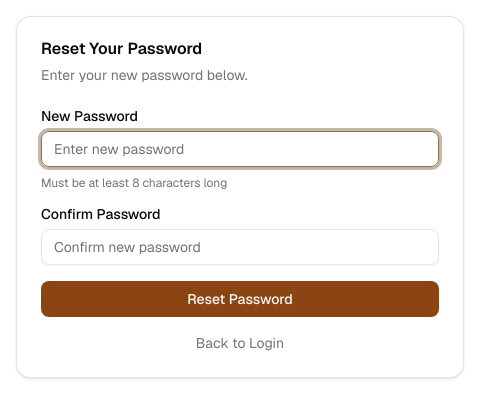
Test: ResetPasswordPage › should disable inputs during submission
Expected: the text "Reset Your Password" is shown, [41, 38, 202, 59]
Type "NewPass123!" into the password field labelled "New Password".
click(240, 149); type("NewPass123!")  # box [41, 131, 439, 167]
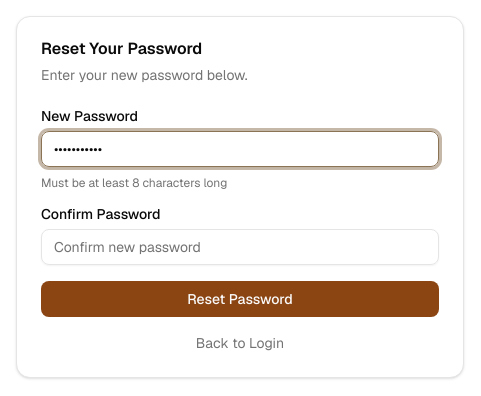
Type "NewPass123!" into the password field labelled "Confirm Password".
click(240, 247); type("NewPass123!")  # box [41, 229, 439, 265]
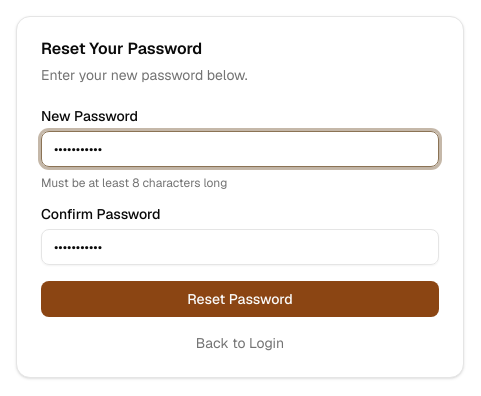
Click the button "Reset Password".
click(240, 299)  # box [41, 281, 439, 317]
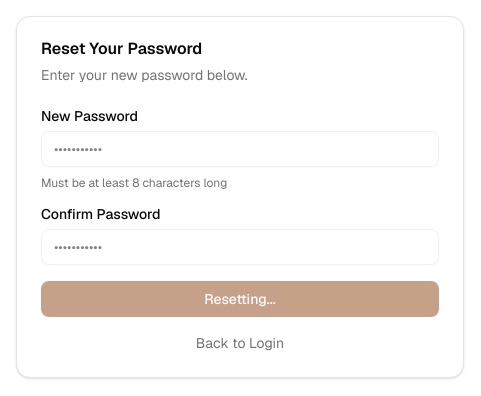
Now the password field labelled "New Password" is disabled, box [41, 131, 439, 167]
Now the password field labelled "Confirm Password" is disabled, box [41, 229, 439, 265]
Now the button named "reset password" is disabled, box [41, 281, 439, 317]
